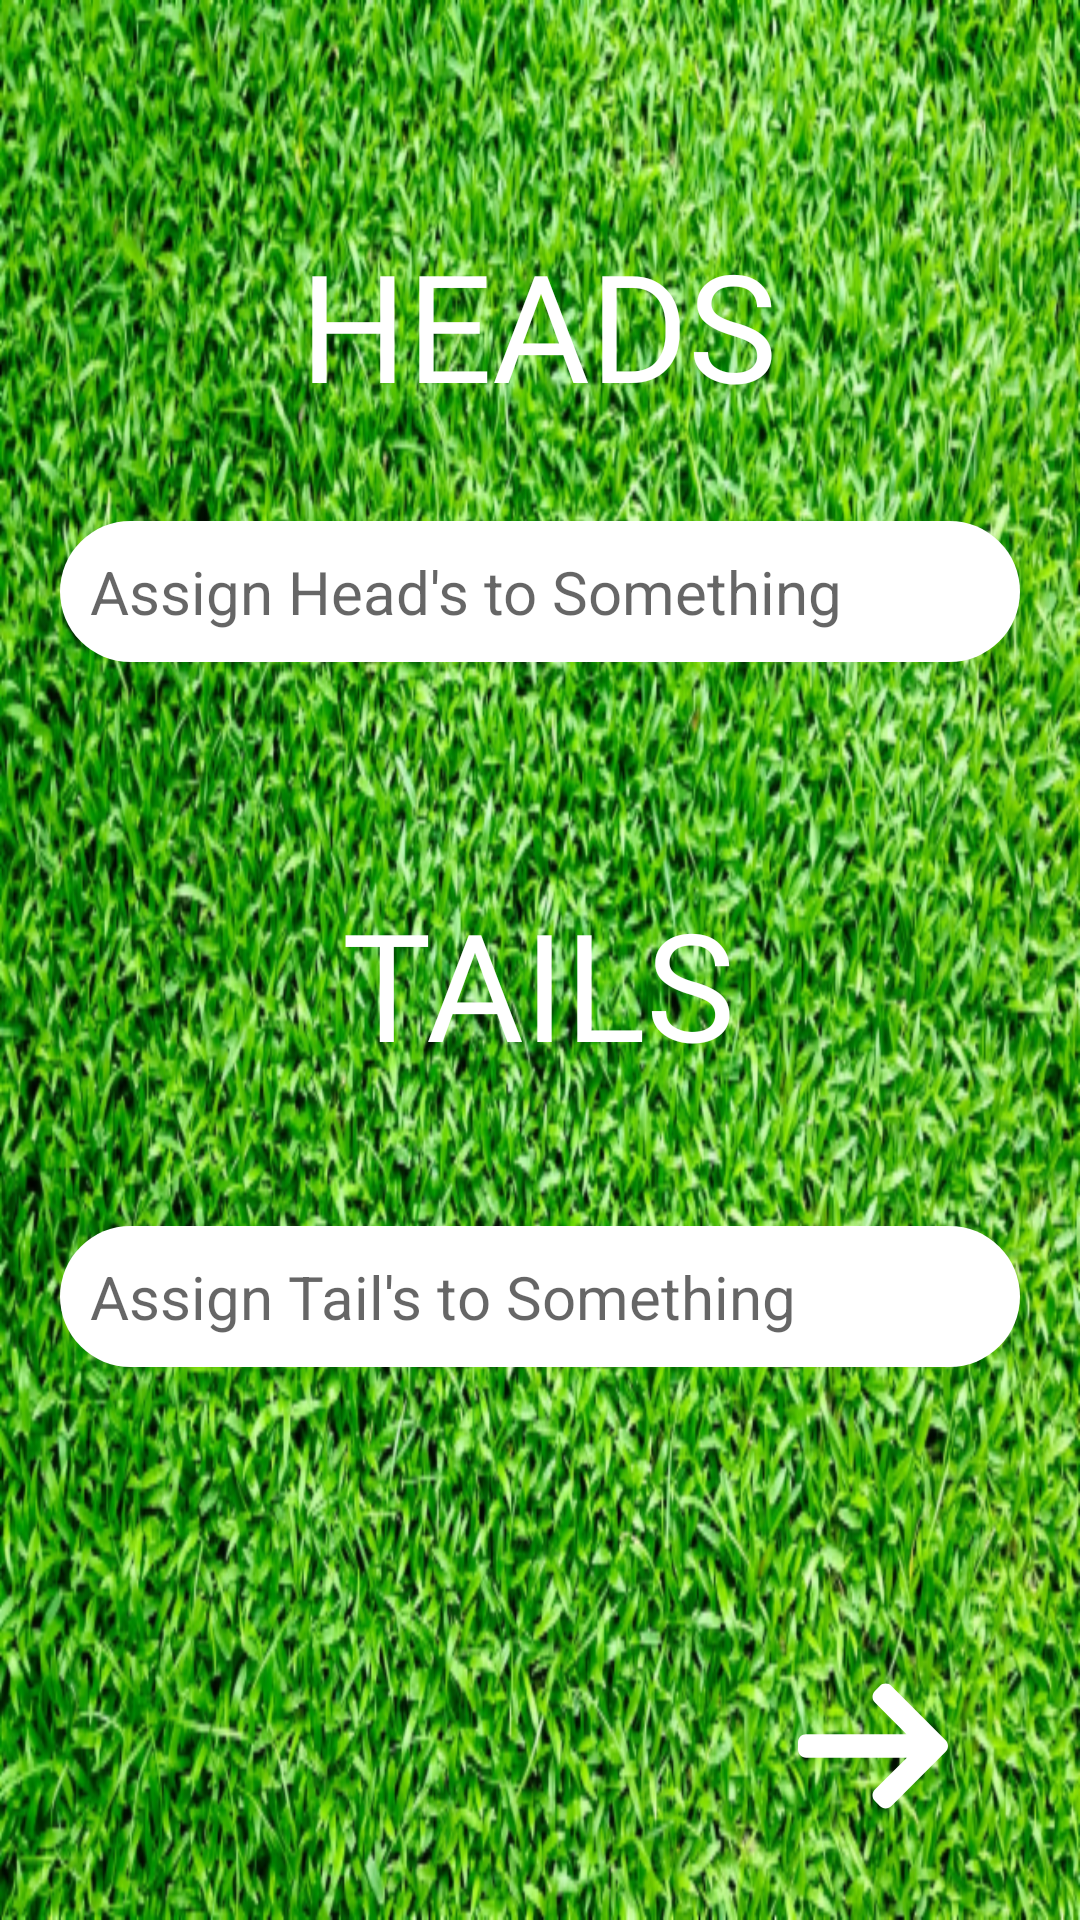

Screen size 1080×1920. Icon name, then its center in pixels as point (x, y):
right arrow: point (873, 1746)
